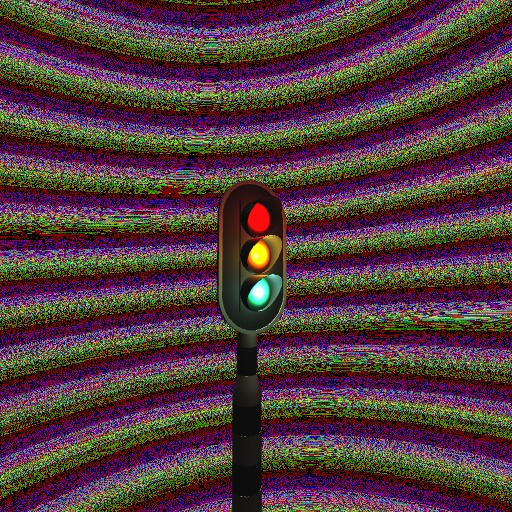All_Light: (217, 179, 296, 336)
